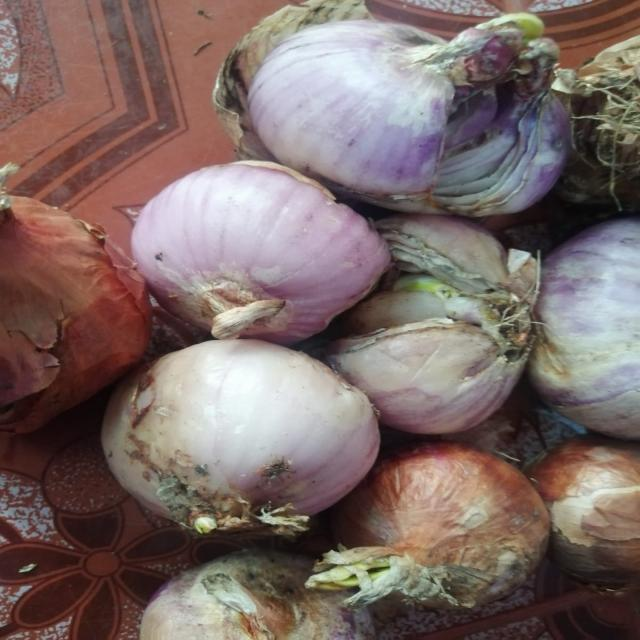rotten: (454, 85, 516, 205), (356, 280, 486, 318), (468, 556, 556, 608), (128, 387, 180, 445)
sprouting: (456, 19, 554, 62), (308, 560, 414, 588)
